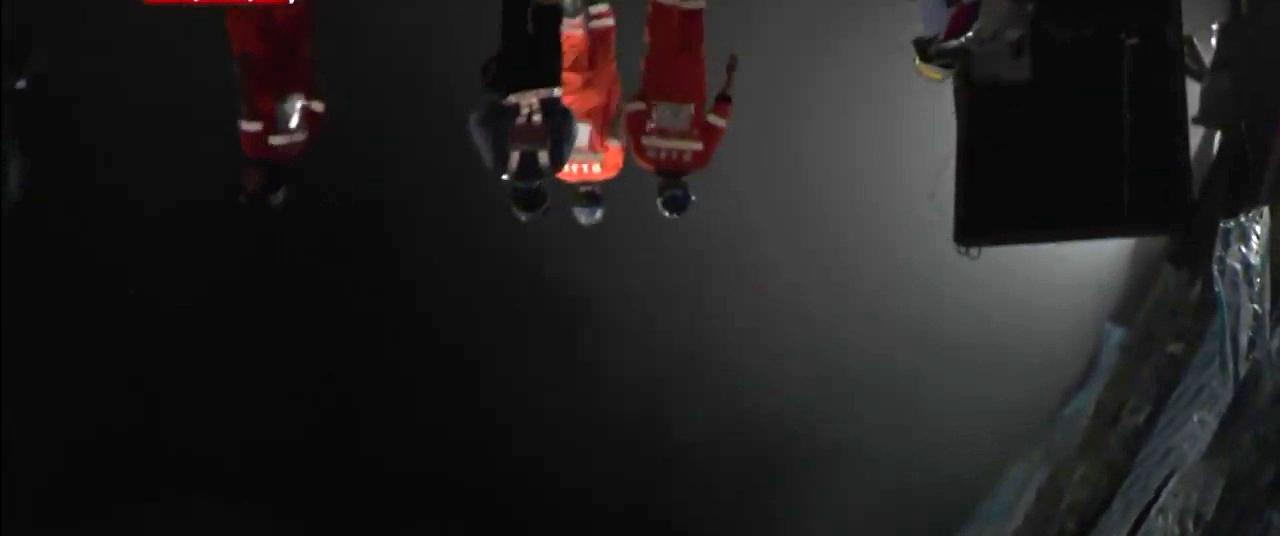helmet: (910, 33, 966, 83), (508, 182, 552, 224), (655, 174, 692, 220), (570, 185, 605, 227)
